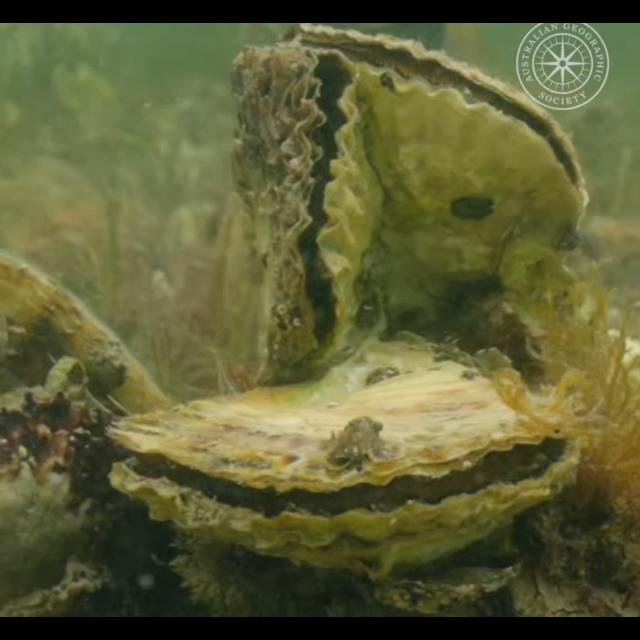Oyster-Closed: (0, 248, 172, 438)
Oyster-Open: (108, 333, 582, 583), (284, 24, 588, 352), (230, 41, 384, 387)
